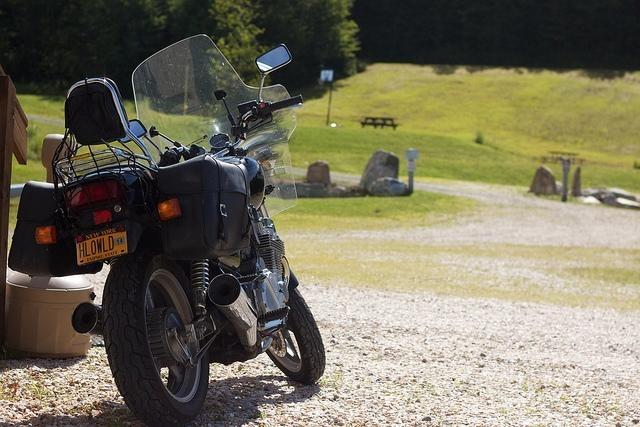motorcycle: (47, 35, 327, 418)
